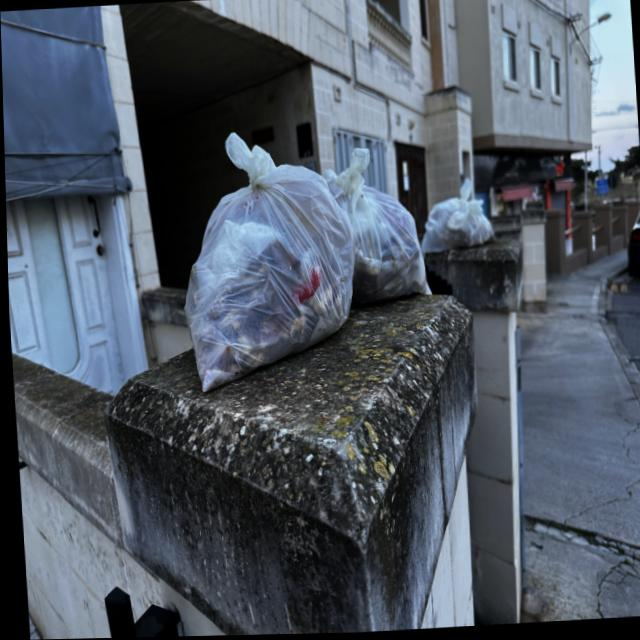Organic Waste -White Bags-: (181, 133, 430, 391)
